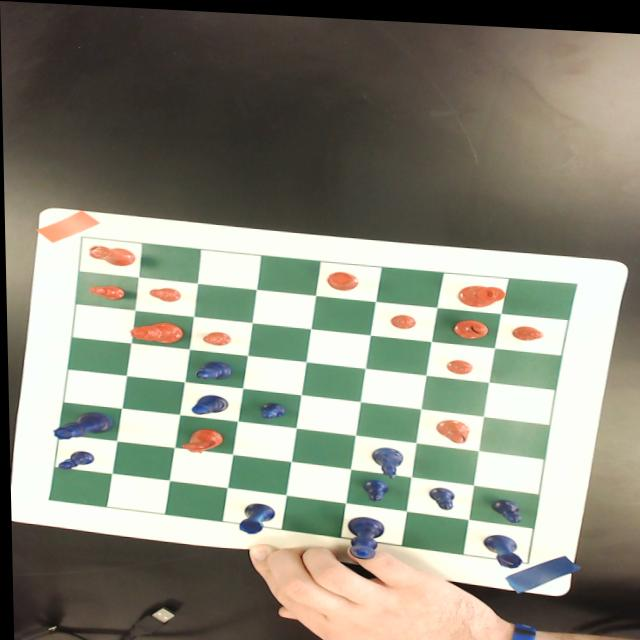B: (189, 391, 227, 413), (193, 357, 231, 379)
K: (343, 511, 383, 555)
N: (369, 442, 402, 475)
P: (54, 448, 93, 470), (425, 480, 455, 507), (488, 493, 522, 516), (360, 474, 390, 498), (256, 398, 286, 417)
Q: (50, 408, 112, 441)
R: (480, 527, 519, 563), (234, 499, 273, 533)
b: (433, 413, 468, 439), (451, 313, 490, 334)
cb: (47, 235, 576, 556)
k: (455, 279, 505, 303)
n: (177, 424, 222, 452)
p: (87, 282, 126, 299), (509, 319, 543, 335), (146, 285, 181, 300), (200, 328, 230, 343), (444, 354, 472, 369), (388, 309, 414, 324)
q: (128, 319, 183, 341)
r: (87, 244, 134, 264), (324, 266, 359, 287)
